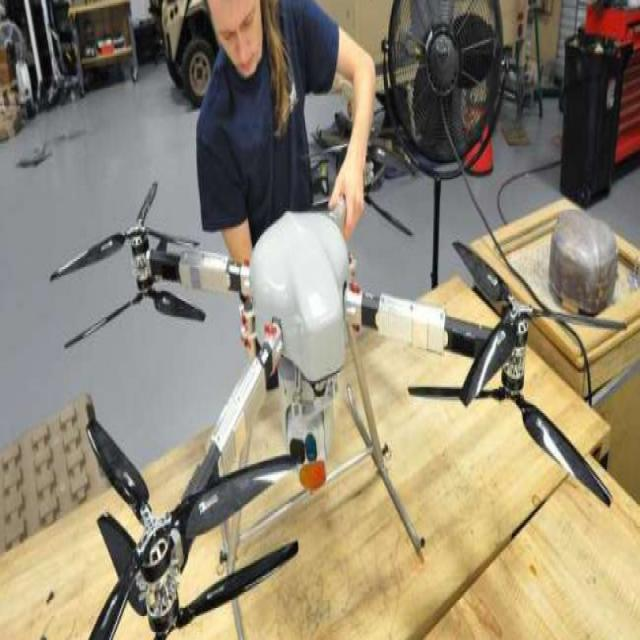drone: (48, 152, 630, 606)
